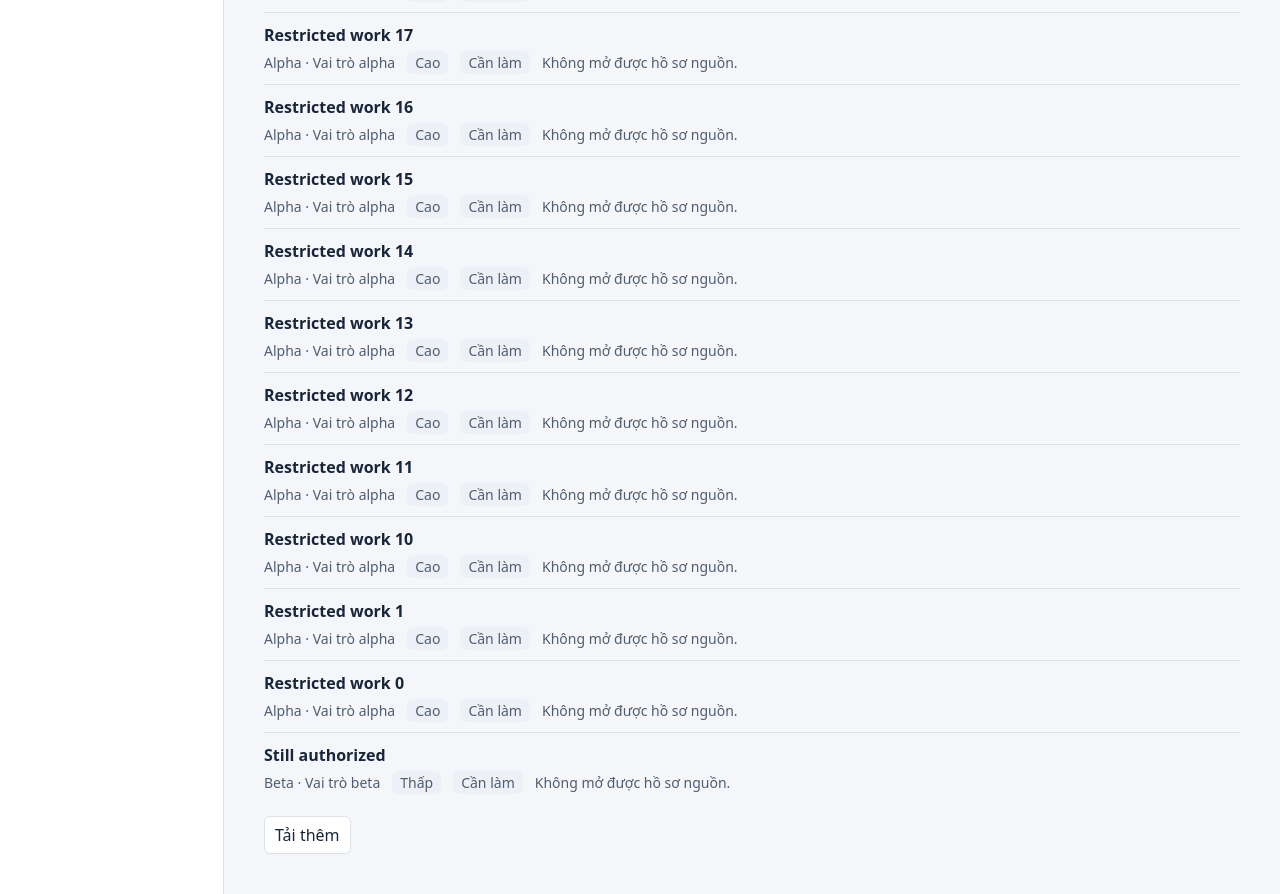
Test: purges a revoked grant on the next page (403) and retries it from the beginning
The image size is (1280, 894).
(page scrolled)
Expected: the text "Restricted work 0" is shown, [264,672,404,694]
Click the button "Tải thêm".
click(307, 835)  # box [264,816,350,854]
(page scrolled)
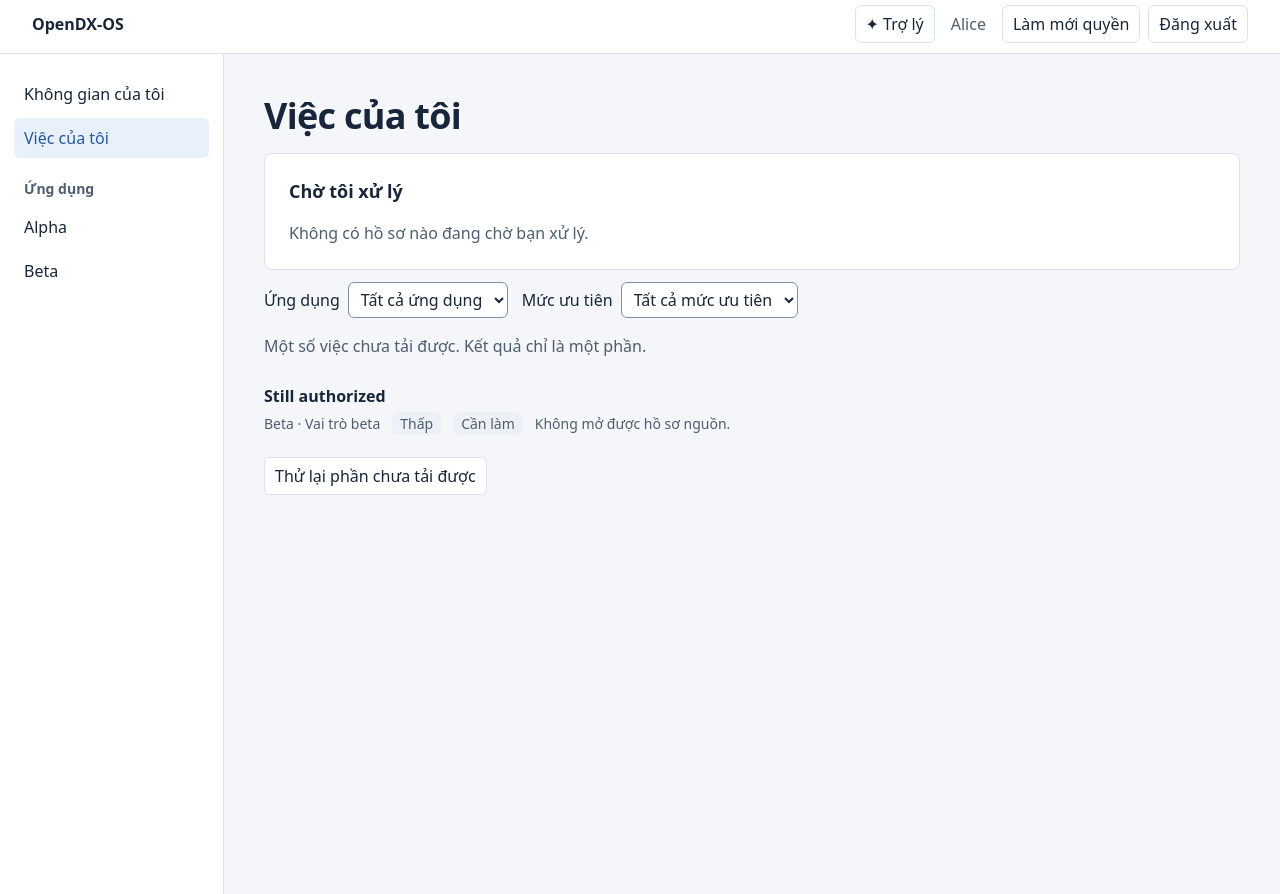
Expected: the text "Still authorized" is shown, [264,385,386,407]
Click the button "Thử lại phần chưa tải được".
click(375, 476)  # box [264,457,487,495]
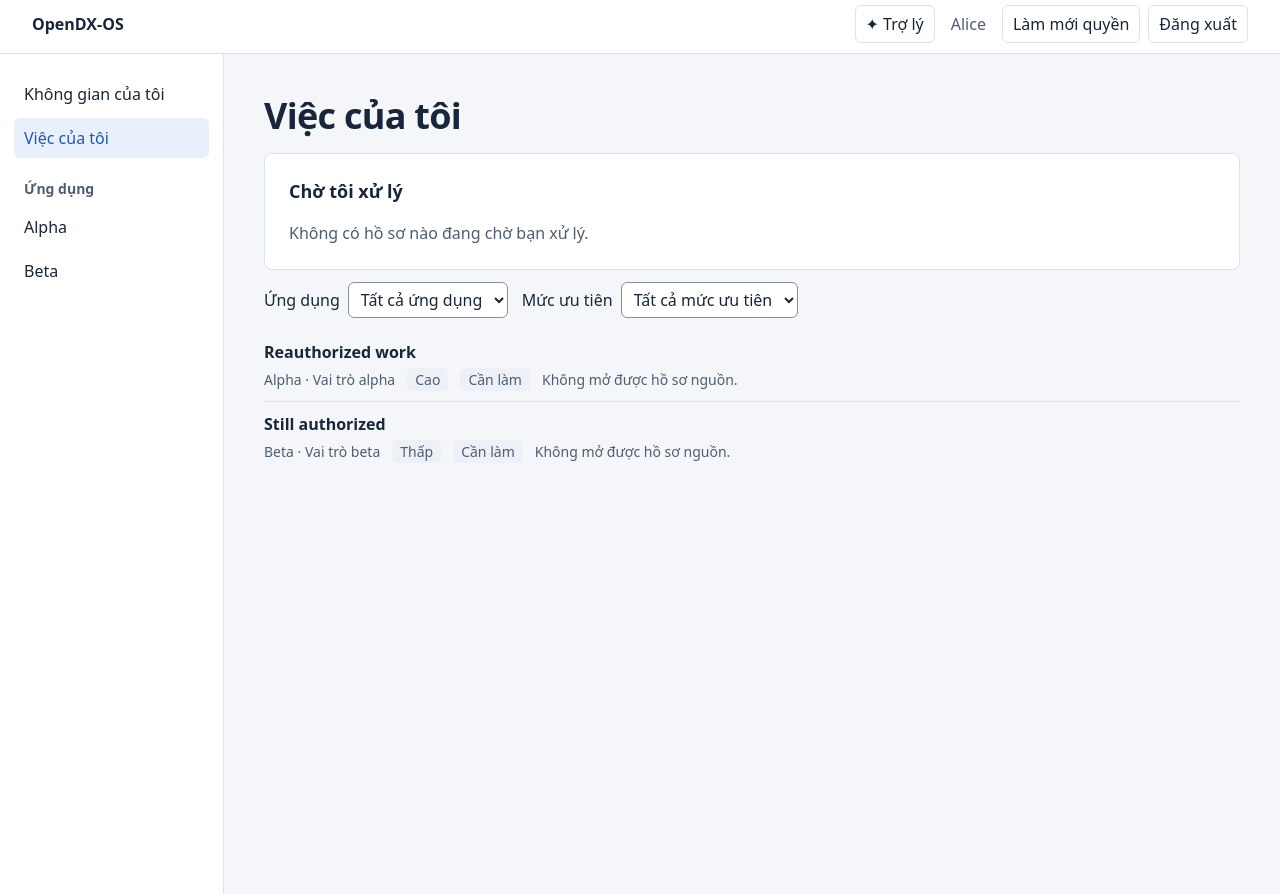
Expected: the list item "Restricted work" is not shown
Result: the text "Reauthorized work" is shown at [264,341,416,363]
